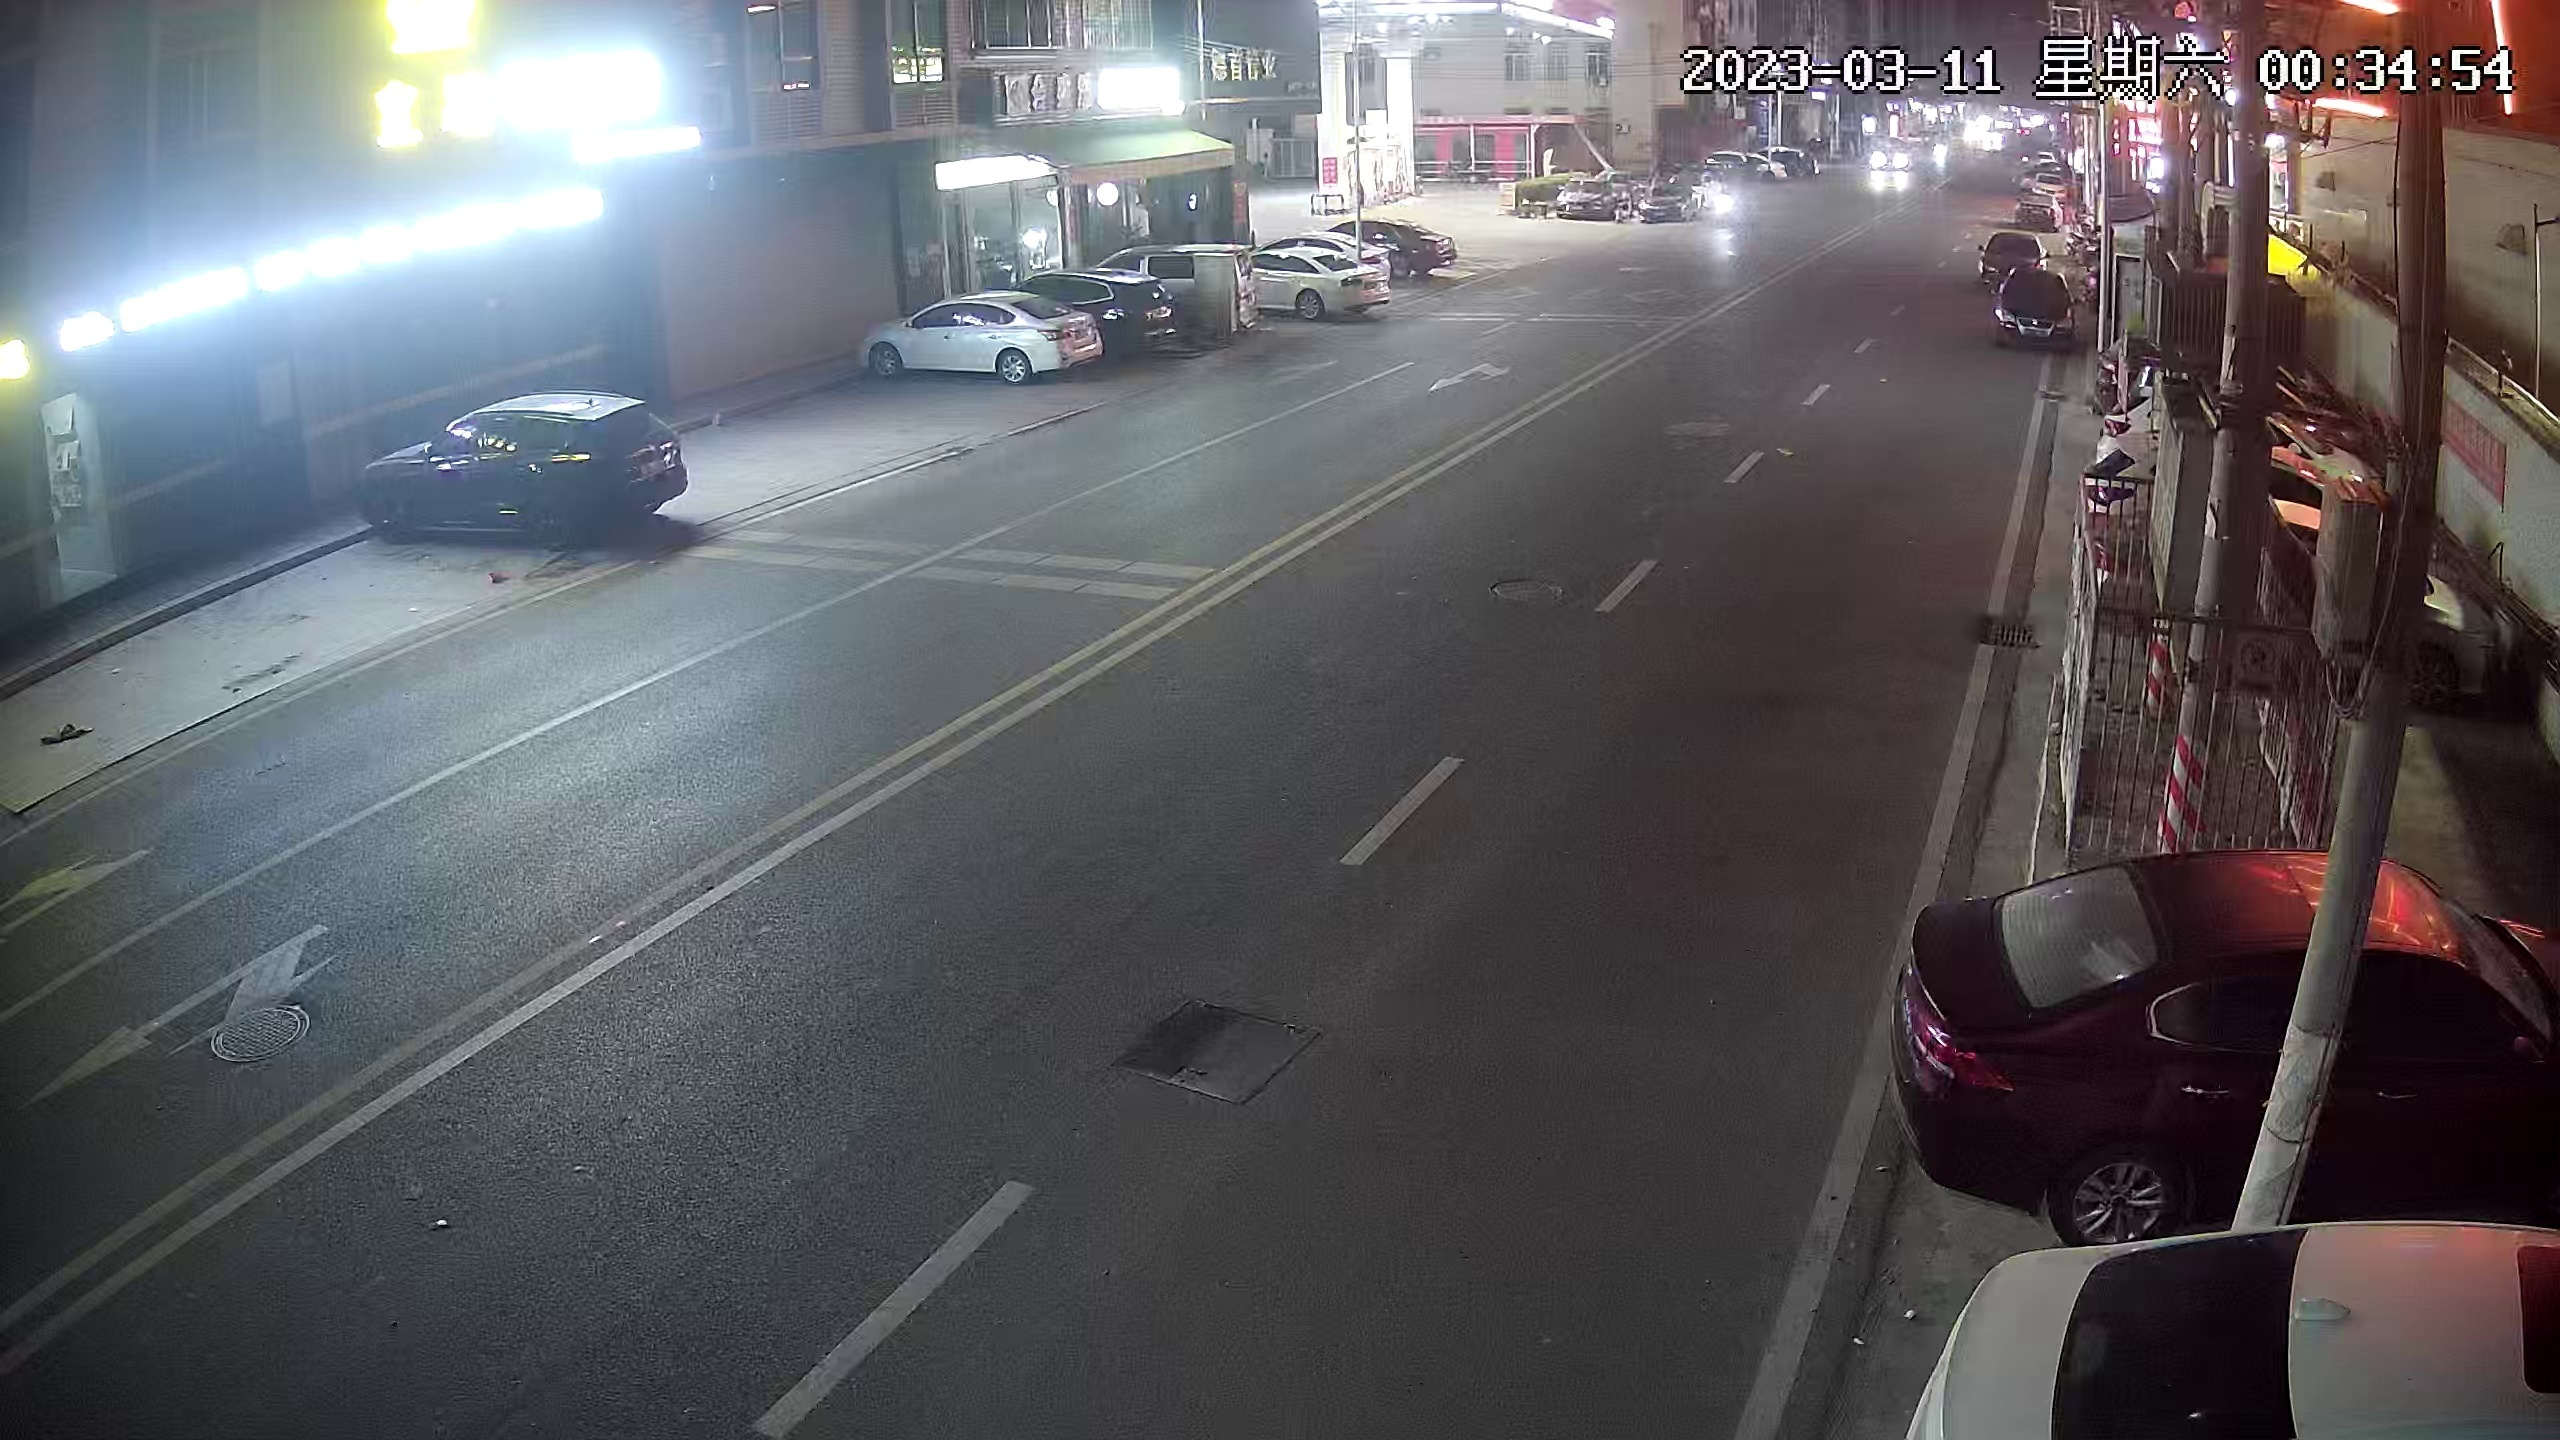sedan: (1908, 842, 2560, 1215), (1908, 1229, 2560, 1440), (2099, 517, 2513, 684), (2094, 427, 2388, 517), (860, 295, 1101, 389), (1250, 250, 1403, 331), (1996, 260, 2078, 343), (1361, 215, 1458, 278), (1639, 174, 1705, 223), (1983, 223, 2045, 274), (2018, 185, 2064, 234), (1867, 134, 1918, 169), (1568, 179, 1612, 215)
suv: (353, 403, 689, 554), (1051, 260, 1175, 346)
van: (1116, 237, 1247, 316)
